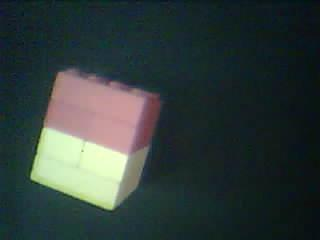lego: (29, 68, 162, 211)
